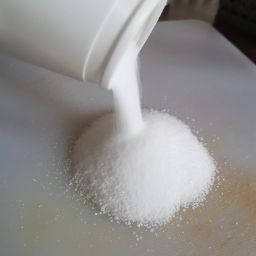Salt: (30, 11, 227, 231), (70, 108, 226, 228), (100, 34, 173, 192), (100, 136, 188, 200)
